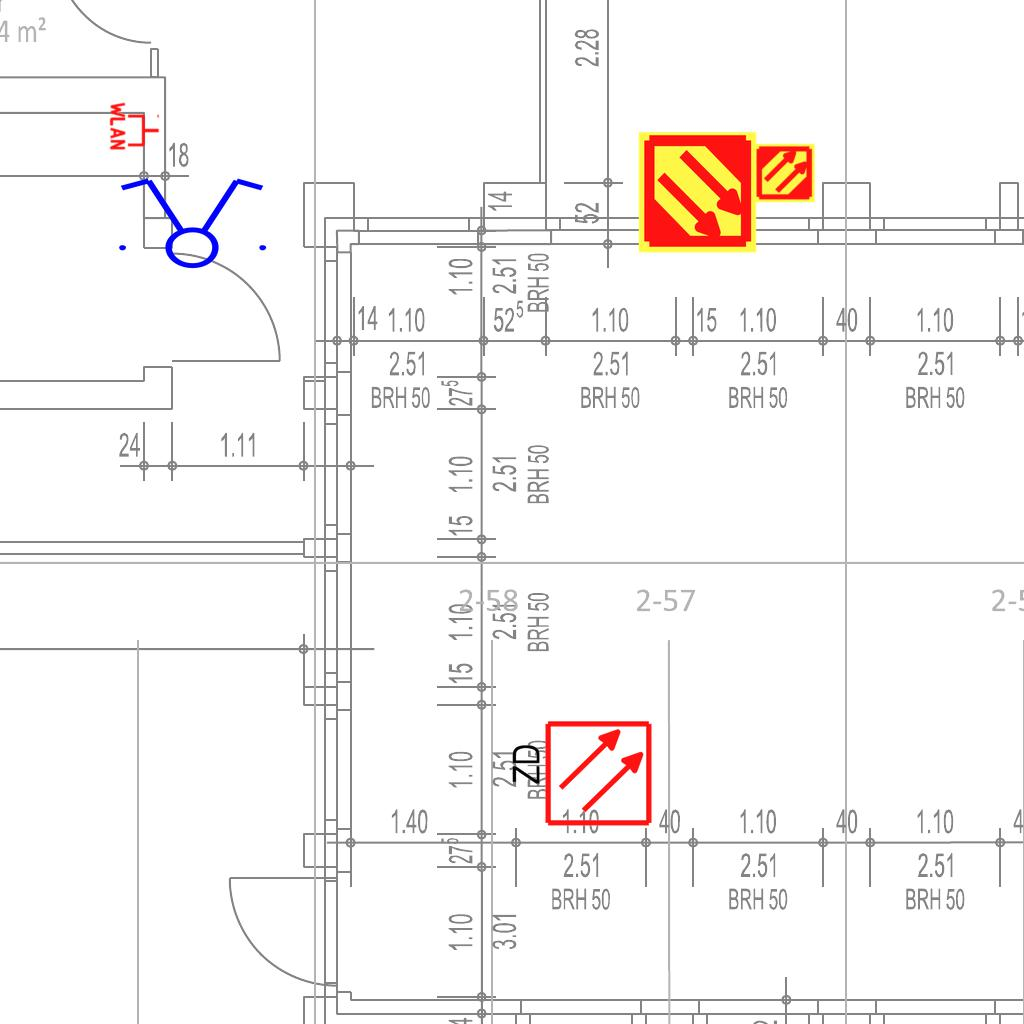ASR_Ansaugrauchmelder: (635, 130, 760, 255), (754, 142, 816, 204)
Serienschalter: (107, 174, 275, 270)
WLAN: (109, 100, 161, 152)
ZD_Melder_in_Zwischendecke_mit_Revisionsoeffnung_mind_40_x_40_cm: (505, 718, 654, 832)
